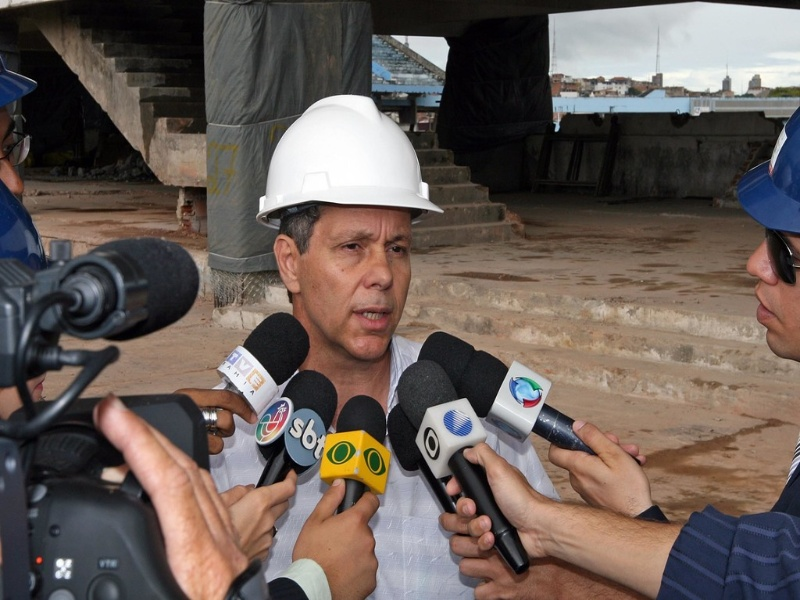Baret: (249, 94, 445, 214)
